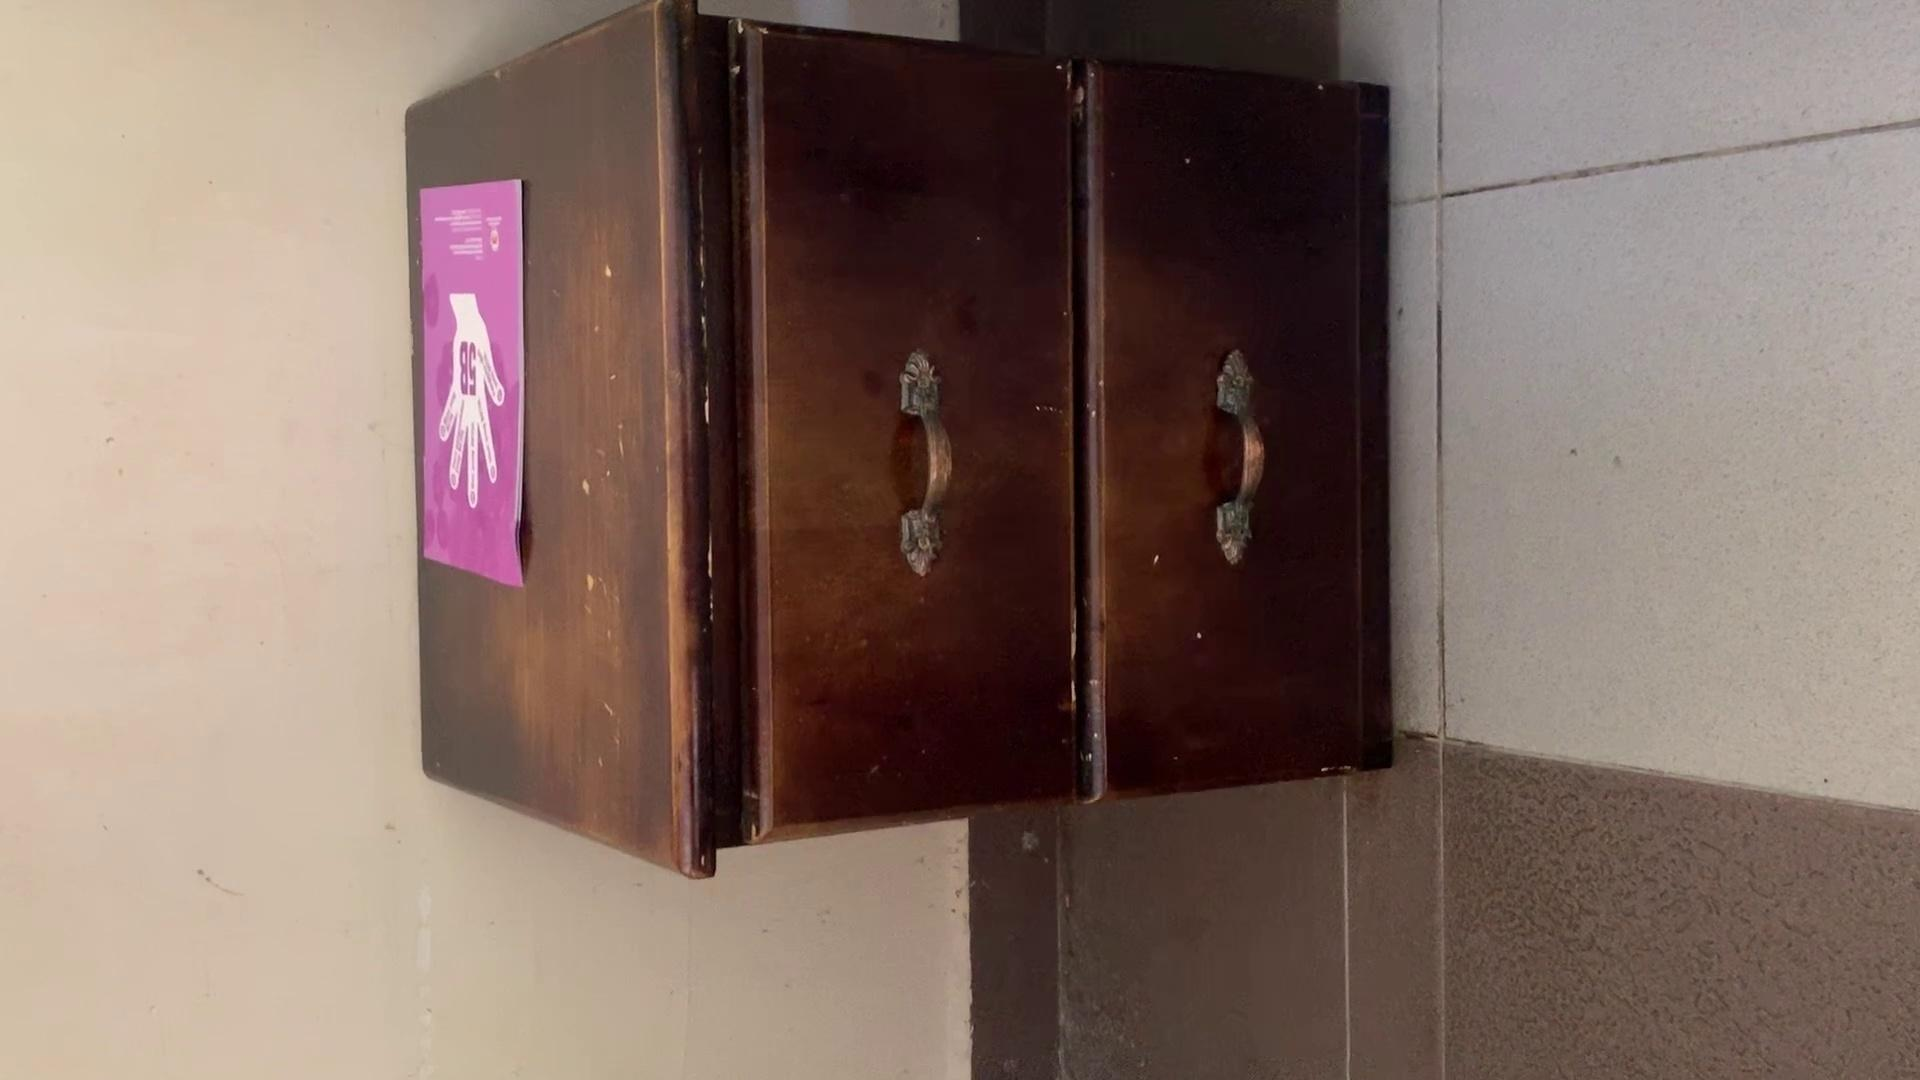cabinet_door: (742, 37, 1075, 820), (1093, 73, 1382, 790)
handle: (1197, 349, 1291, 568), (880, 351, 967, 582)
